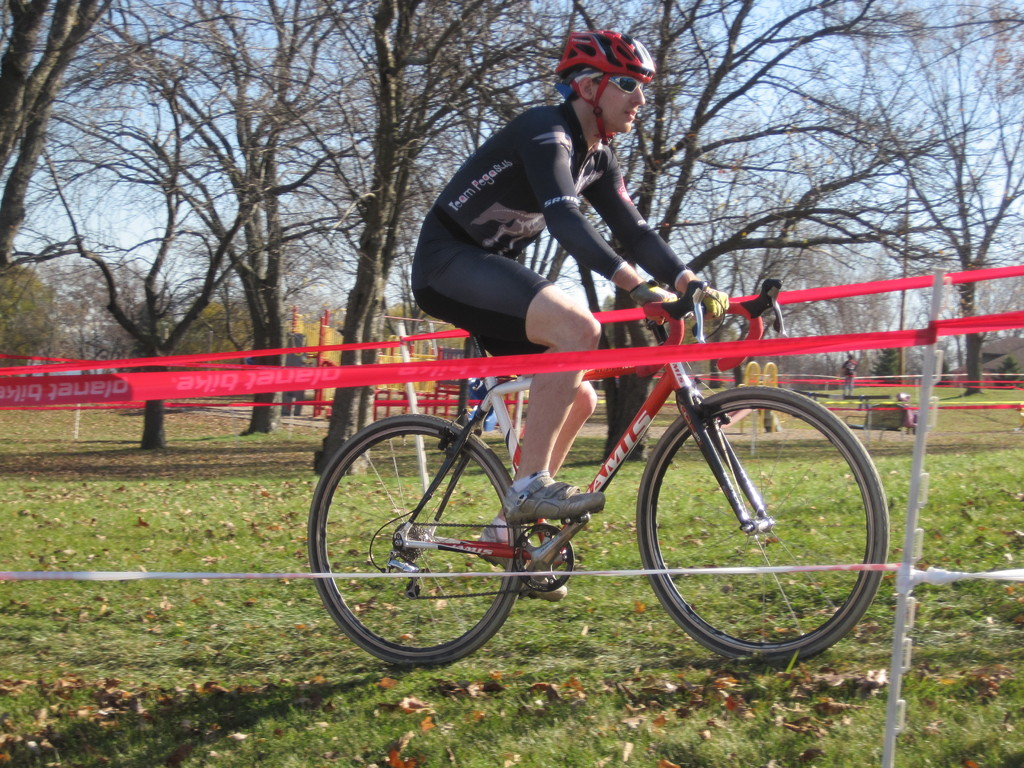Bike_toward: (313, 319, 904, 660)
